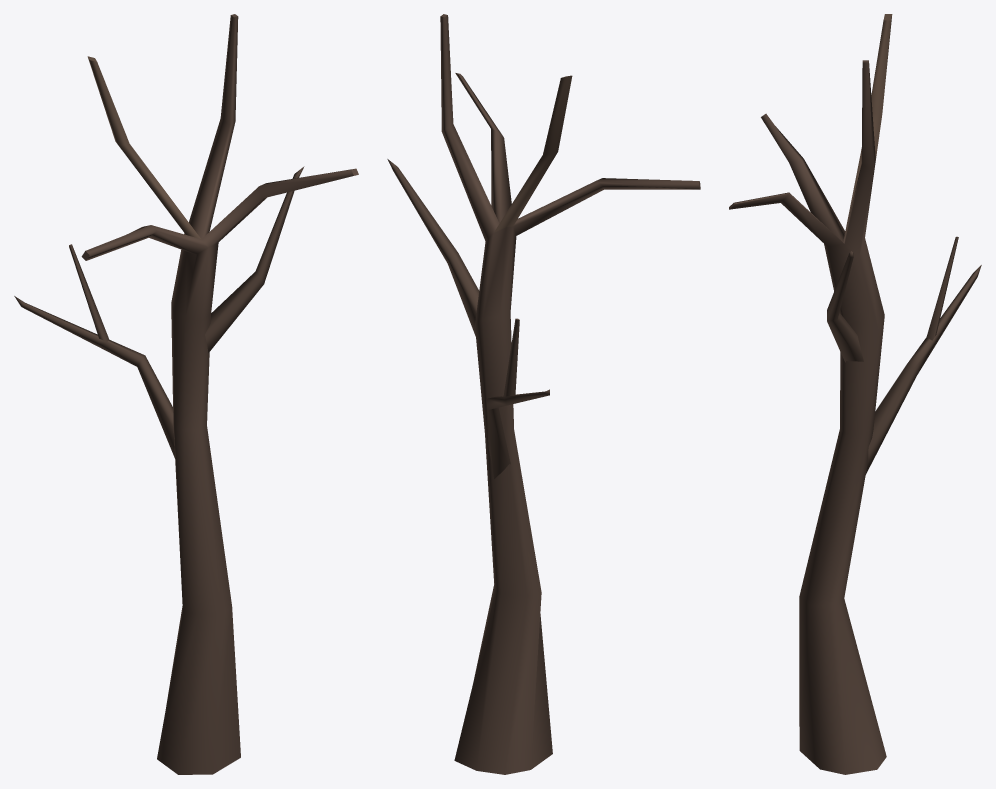
File: Tree_A1.fbx
The picture shows the model from 3 angles, left to right: view 1: azimuth 30°, elevation 25°; view 2: azimuth 150°, elevation 25°; view 3: azimuth 270°, elevation 25°; orthographic projection. The views are drawn at different scales.
Visible parts, largest first — view 1: Tree_A1; view 2: Tree_A1; view 3: Tree_A1.
Boxes of the visible parts, x1,y1,x2,y2 form: Tree_A1: (14,14,358,774); Tree_A1: (387,14,700,774); Tree_A1: (729,14,981,774).
Size of the model in its own units: 238 by 620 by 199.
